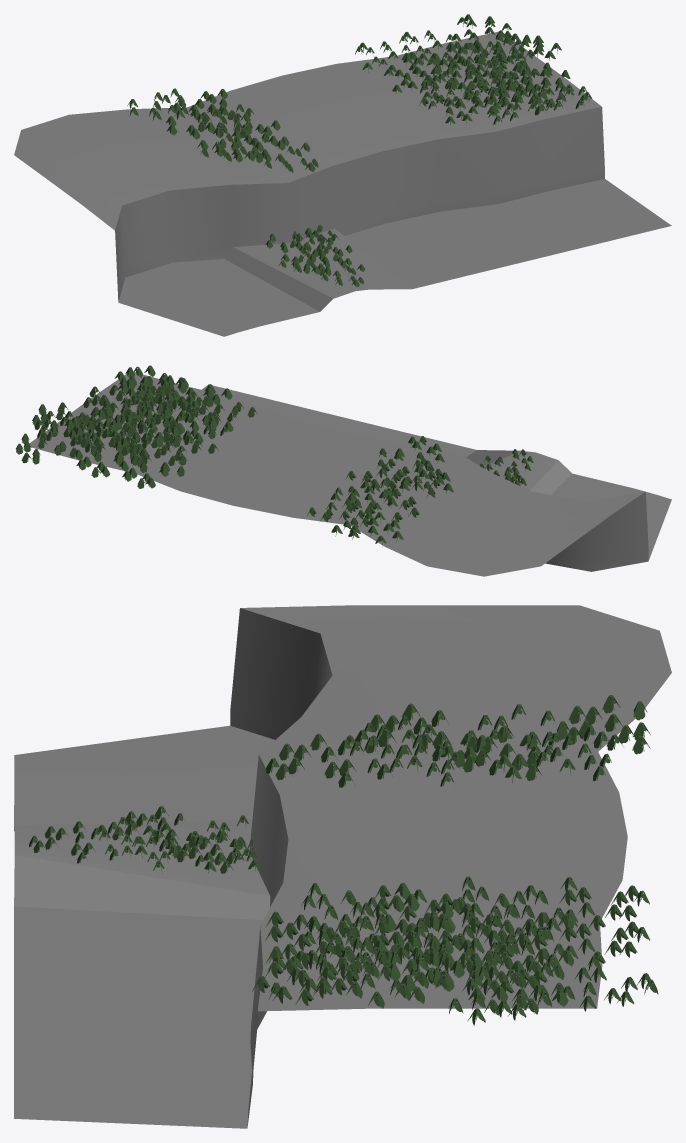
Rendered from Waterfallground.obj.
The picture shows the model from 3 angles, top to bottom: view 1: azimuth 30°, elevation 25°; view 2: azimuth 150°, elevation 25°; view 3: azimuth 270°, elevation 25°; orthographic projection. The views are drawn at different scales.
Visible parts, largest first — view 1: Ground, Bos, Bos1, Bos3, Bos2, Bos4; view 2: Ground, Bos1, Bos, Bos3, Bos2, Bos4; view 3: Ground, Bos, Bos1, Bos3, Bos2, Bos4.
Part boxes in pixels (x1,y1,x2,y2): Ground: (14,31,671,336); Bos: (127,88,318,172); Bos1: (355,41,542,125); Bos3: (451,14,592,111); Bos2: (399,30,588,115); Bos4: (265,224,364,287); Ground: (29,372,671,576); Bos1: (110,378,256,488); Bos: (306,436,453,546); Bos3: (16,365,193,464); Bos2: (64,366,207,477); Bos4: (479,449,533,485); Ground: (14,605,671,1128); Bos: (266,695,650,787); Bos1: (265,876,649,969); Bos3: (252,923,658,1025); Bos2: (265,913,649,1005); Bos4: (29,806,260,874).
Bounding box in the file's own units: 46.63 × 6.93 × 30.51.
Materials: 2 (1 with a texture image).
